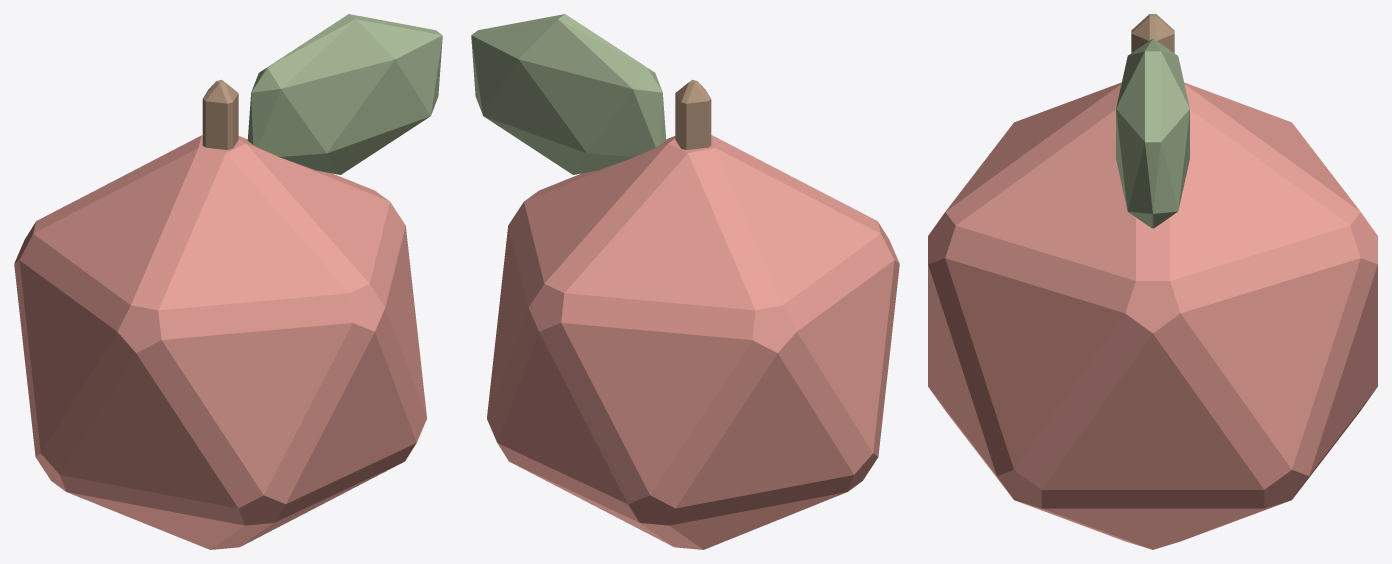
Rendered from SM_Apple.fbx.
3 views of the same model, side by side, from view 1: azimuth 30°, elevation 25°; view 2: azimuth 150°, elevation 25°; view 3: azimuth 270°, elevation 25° (orthographic). The views are drawn at different scales.
Parts seen in each view (by area): view 1: Apple; view 2: Apple; view 3: Apple.
Part boxes in pixels (x1,y1,x2,y2): Apple: [14, 14, 442, 549]; Apple: [471, 14, 899, 549]; Apple: [928, 14, 1377, 549].
Size of the model in its own units: 9.63 by 11.35 by 8.27.
